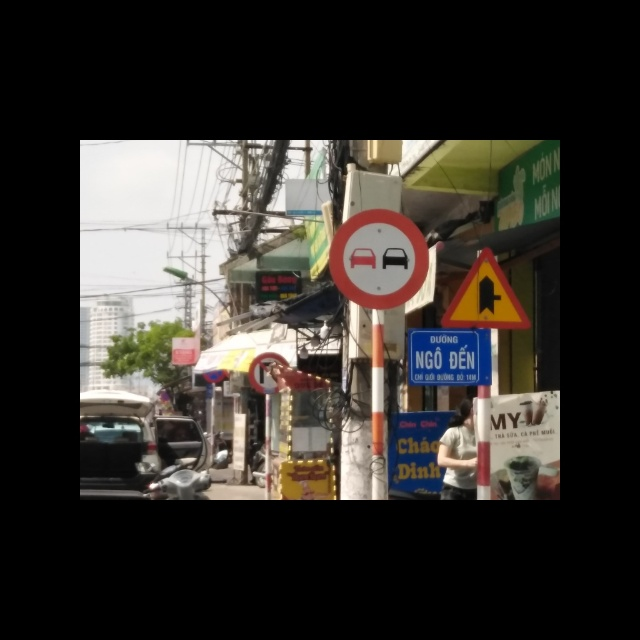Cấm vượt: (326, 209, 430, 312)
Giao nhau với đường không ưu tiên: (440, 244, 532, 330)
